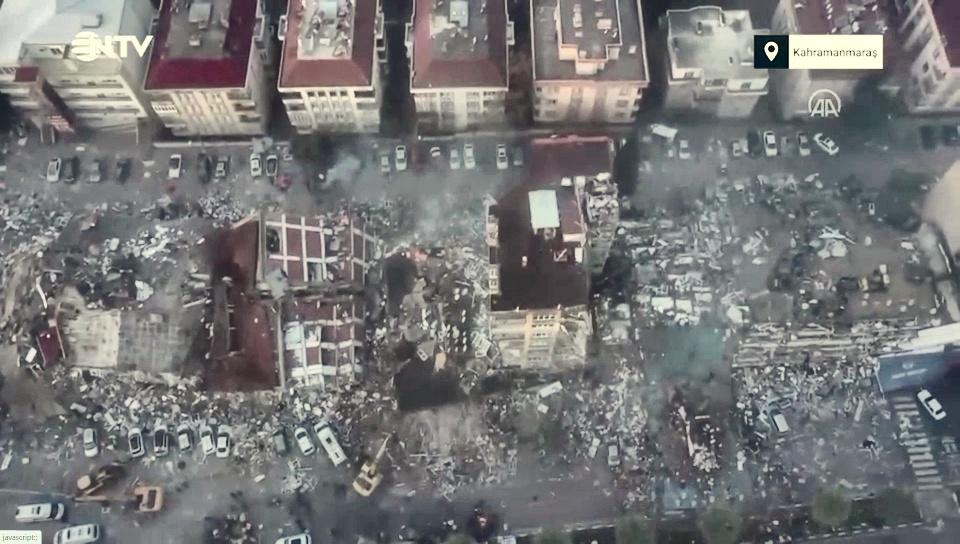kapali: (521, 365, 901, 524)
